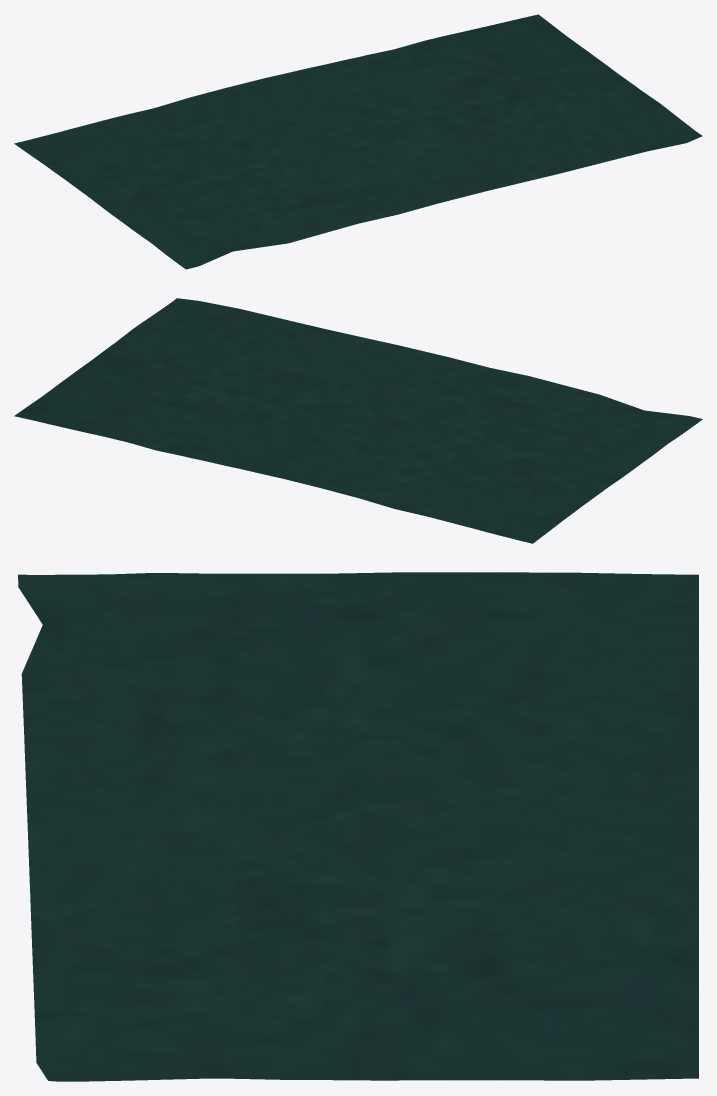
3 views of the same model, one above another, from view 1: azimuth 30°, elevation 25°; view 2: azimuth 150°, elevation 25°; view 3: azimuth 270°, elevation 25° (orthographic). The views are drawn at different scales.
Bounding box in the file's own units: 52.22 × 0.4694 × 29.69.
Materials: 1 (1 with a texture image).
